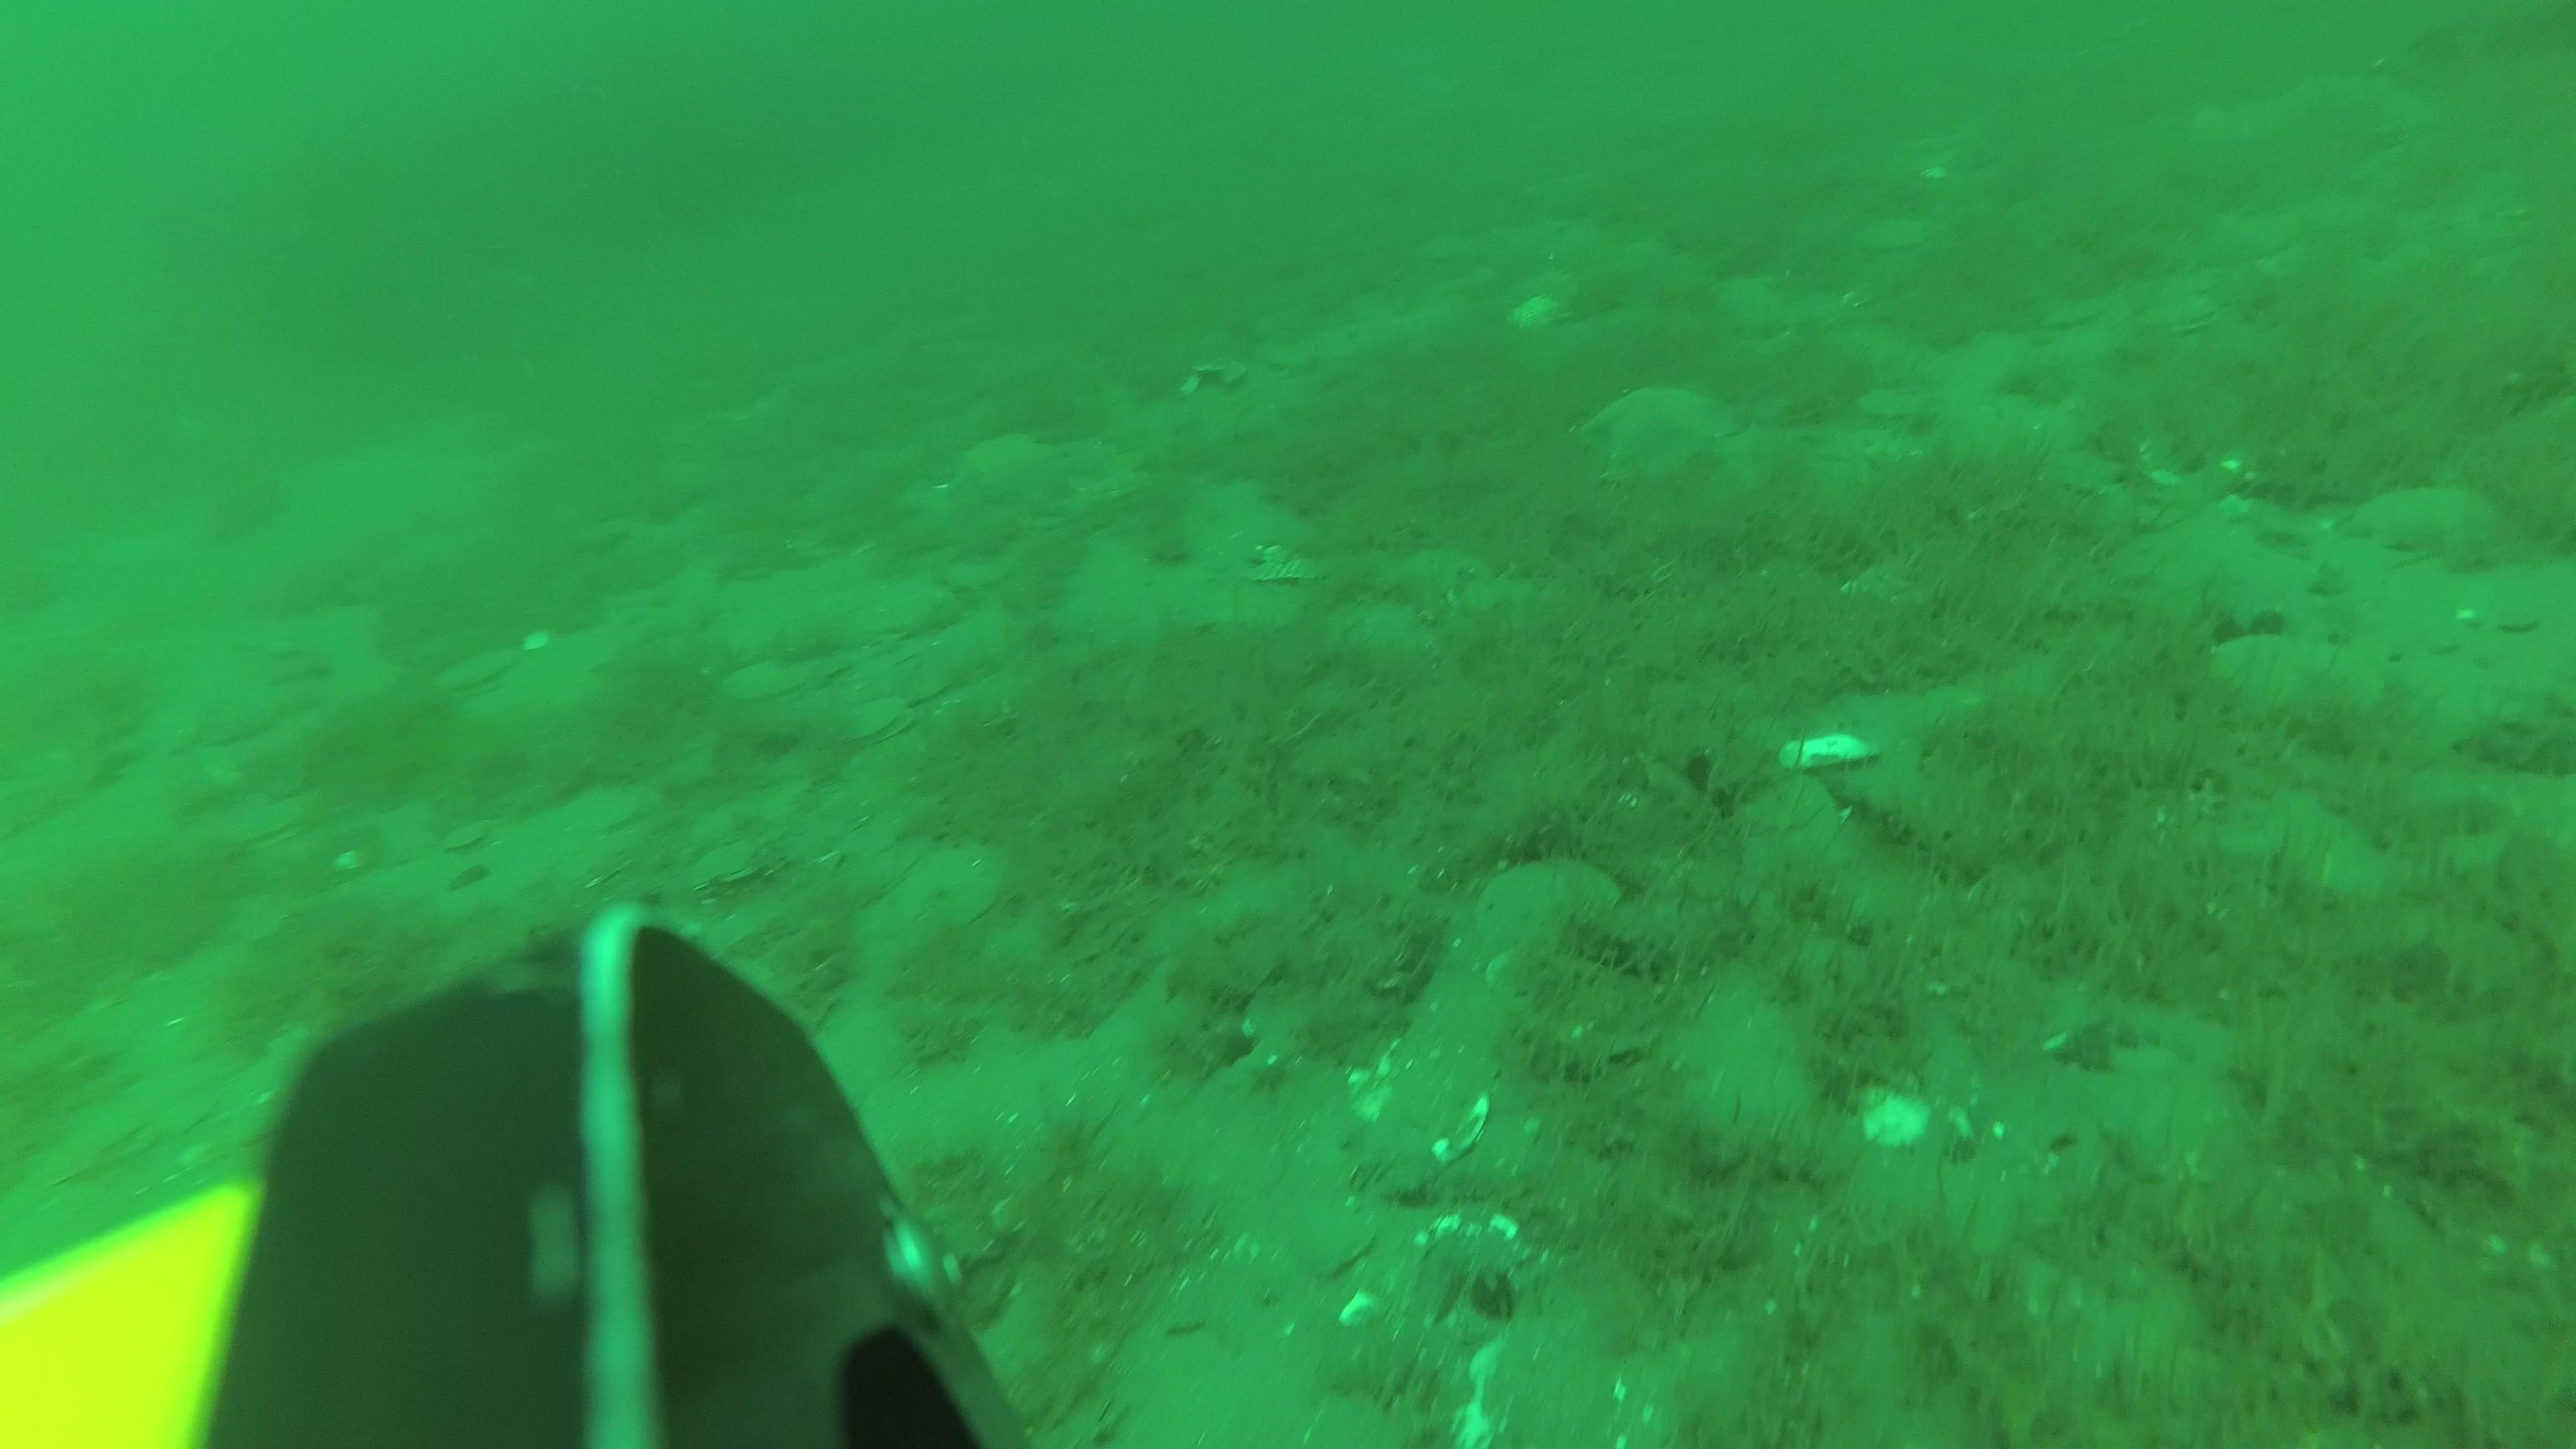scallop: (2204, 633, 2388, 734), (1486, 853, 1619, 954), (2355, 481, 2495, 554), (904, 855, 1008, 934), (435, 646, 524, 697), (725, 658, 812, 709), (844, 699, 916, 750), (234, 801, 308, 847)
starfish: (1582, 386, 1721, 487), (950, 428, 1070, 508)
